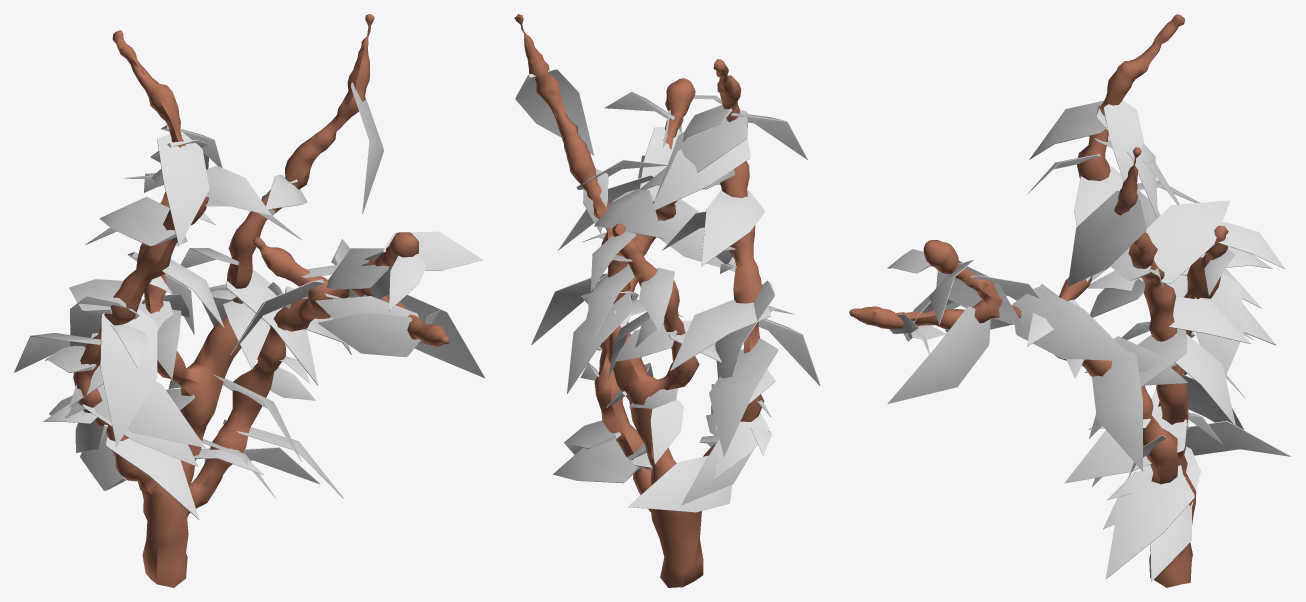
The model's file is Bush1.fbx.
3 renders of one model, left to right at view 1: azimuth 30°, elevation 25°; view 2: azimuth 150°, elevation 25°; view 3: azimuth 270°, elevation 25°, orthographic. The views are drawn at different scales.
Parts seen in each view (by area): view 1: Bush1; view 2: Bush1; view 3: Bush1.
Part boxes in pixels (x1,y1,x2,y2): Bush1: (14,14,485,587); Bush1: (514,14,820,587); Bush1: (849,14,1291,587).
Bounding box in the file's own units: 56.65 × 72.74 × 99.84.
